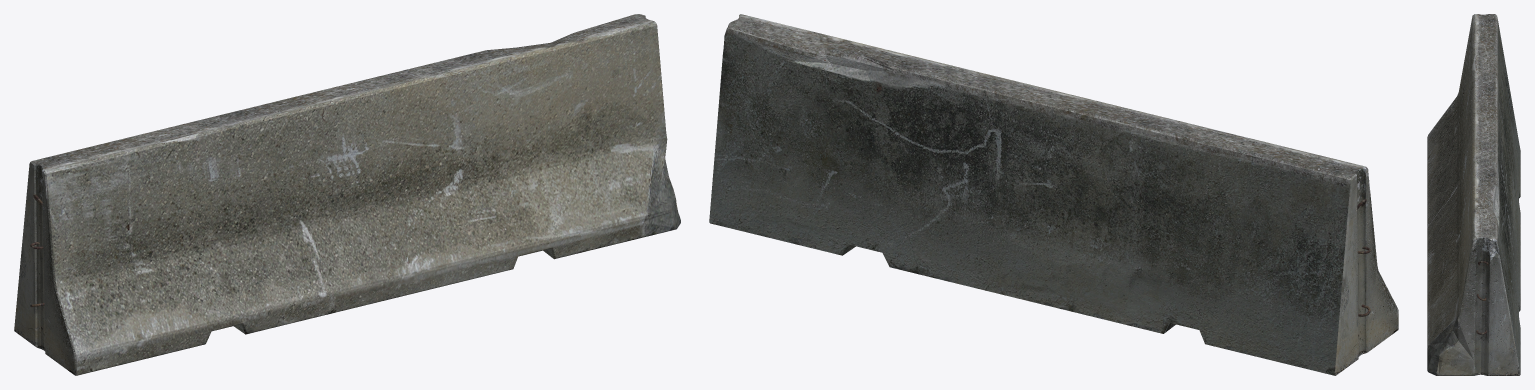
File: RoadBlockade_02_pre.fbx
The picture shows the model from 3 angles, left to right: view 1: azimuth 30°, elevation 25°; view 2: azimuth 150°, elevation 25°; view 3: azimuth 270°, elevation 25°; orthographic projection. The views are drawn at different scales.
Visible parts, largest first — view 1: RoadBlockade_02; view 2: RoadBlockade_02; view 3: RoadBlockade_02.
Boxes of the visible parts, x1,y1,x2,y2 form: RoadBlockade_02: [14, 14, 680, 375]; RoadBlockade_02: [709, 14, 1398, 375]; RoadBlockade_02: [1427, 14, 1520, 375].
Size of the model in its own units: 288 by 80 by 49.03.
Materials: 1 (1 with a texture image).
